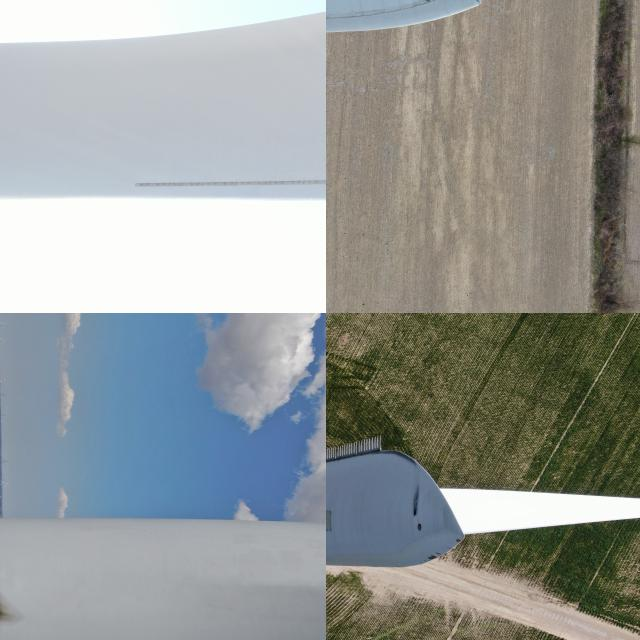damage: (0, 584, 25, 625), (405, 474, 421, 516)
